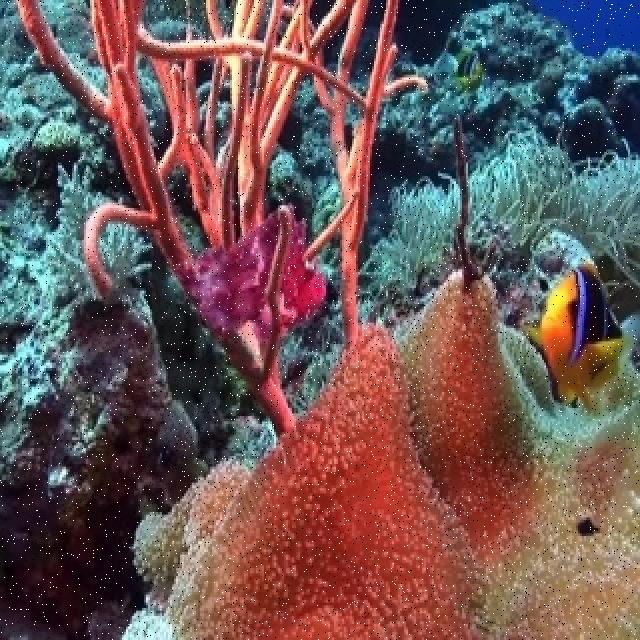aquatic plants: (469, 120, 638, 291), (361, 170, 463, 311)
fish: (539, 269, 630, 405)
reefs: (14, 0, 638, 637)
